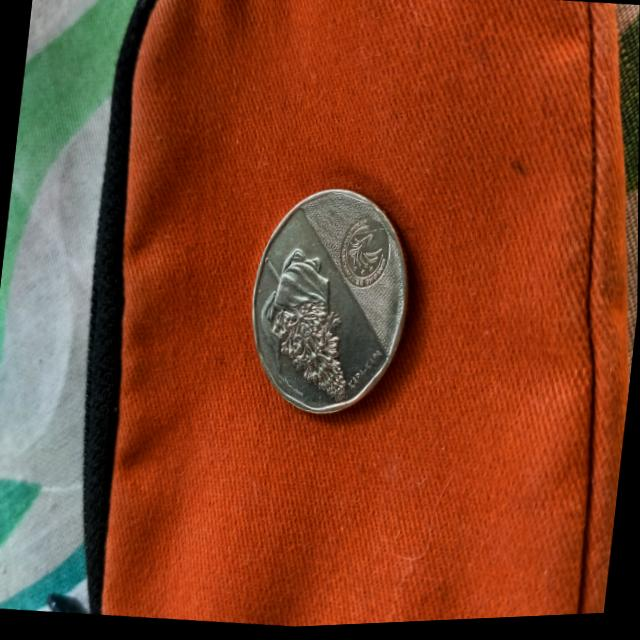10_New_Back: (238, 234, 358, 416)
